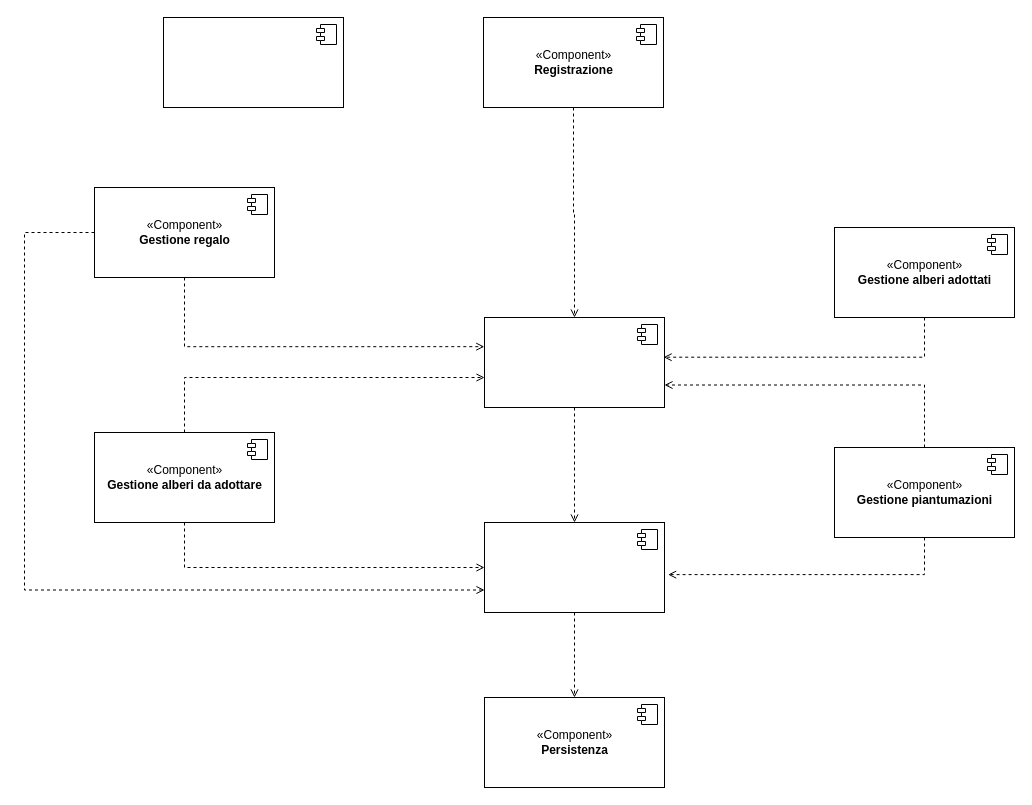
This 1032x805 diagram has some shape labels left out. Here are the shapes that lost their labels. From the top down, the centre of each, then its label:
At point 253,62: "«Component» Gestione inquinamento".
At point 574,362: "«Component» Autenticazione".
At point 574,567: "«Component» Storage".
